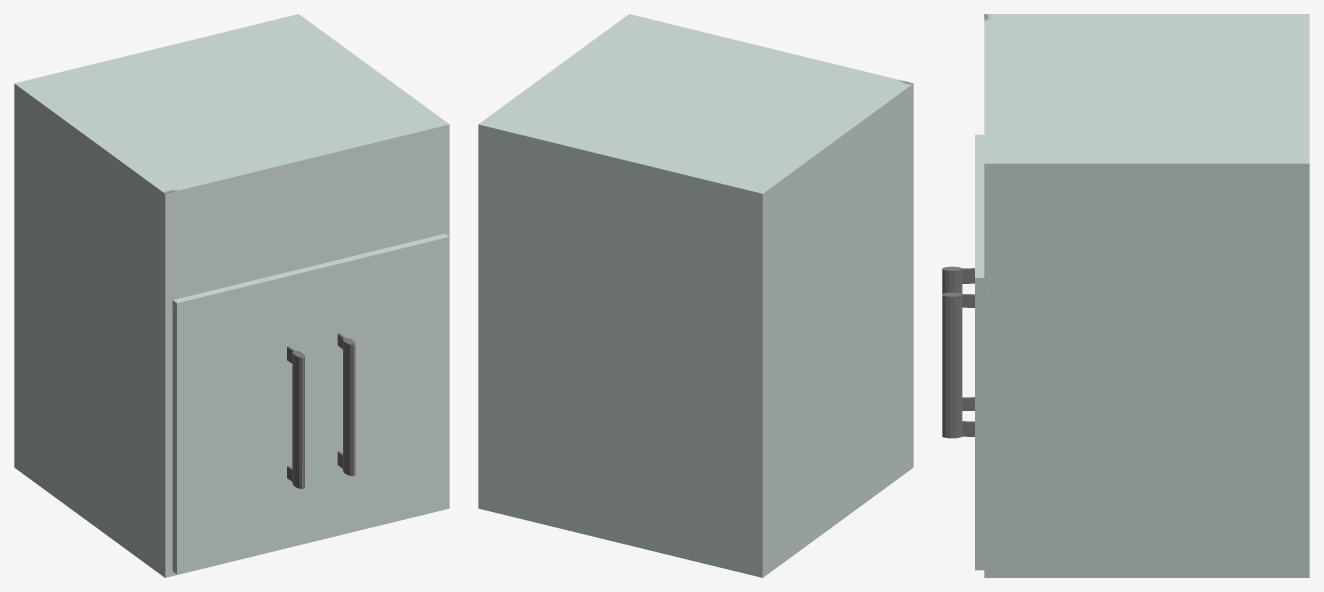
The model's file is Cubboard.fbx.
The picture shows the model from 3 angles, left to right: view 1: azimuth 30°, elevation 25°; view 2: azimuth 150°, elevation 25°; view 3: azimuth 270°, elevation 25°; orthographic projection. The views are drawn at different scales.
Visible parts, largest first — view 1: Cubboard; view 2: Cubboard; view 3: Cubboard.
Boxes of the visible parts, x1=… form: Cubboard: x1=14, y1=14, x2=449, y2=577; Cubboard: x1=478, y1=14, x2=913, y2=577; Cubboard: x1=942, y1=14, x2=1309, y2=577.
Size of the model in its own units: 72.23 by 74.96 by 93.2.
1 material, 1 textured.
